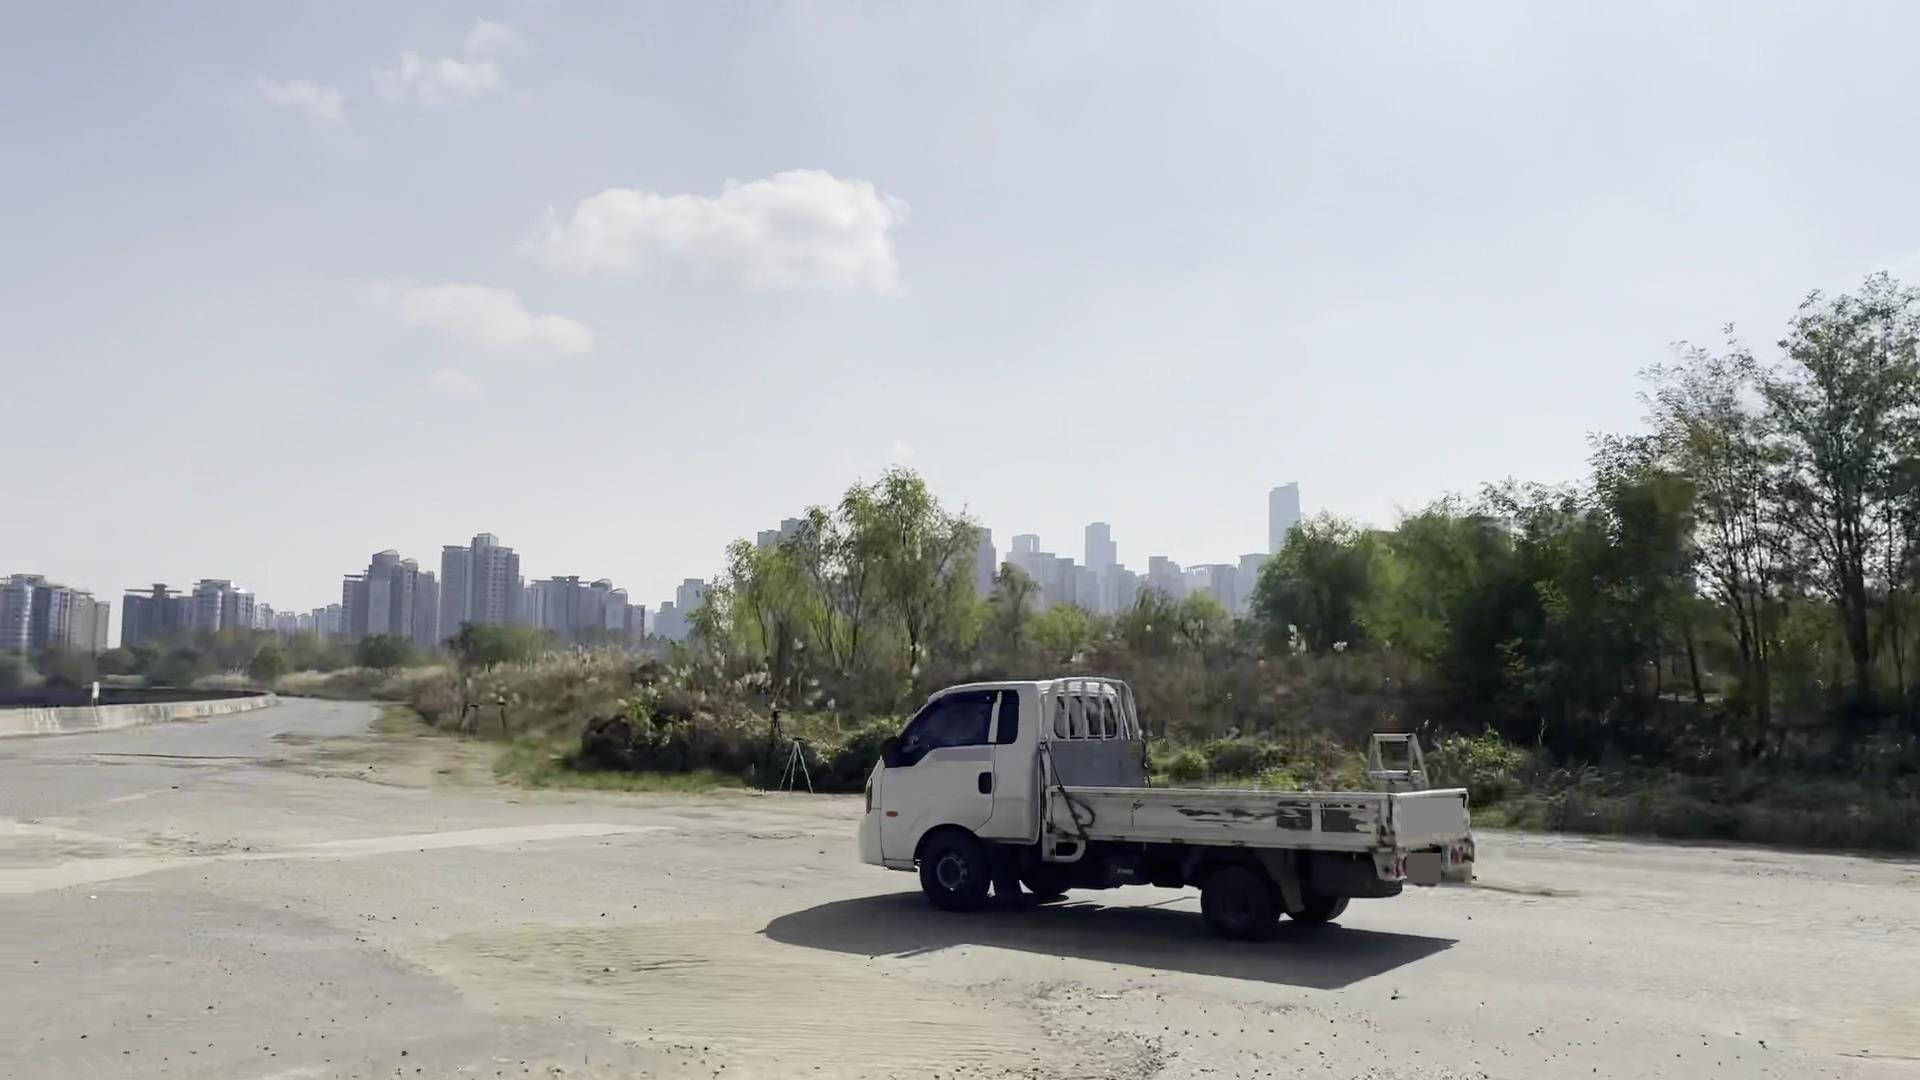불법차량: (858, 676, 1477, 940)
